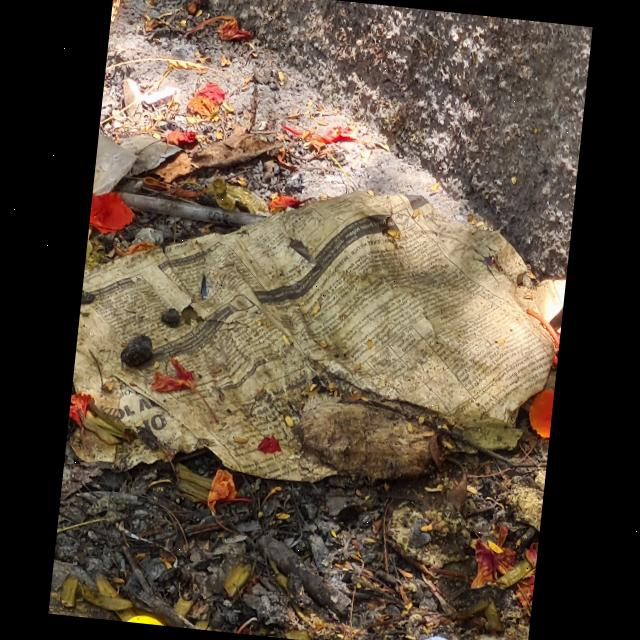trash: (64, 159, 573, 513), (82, 118, 186, 290), (350, 619, 528, 640)
